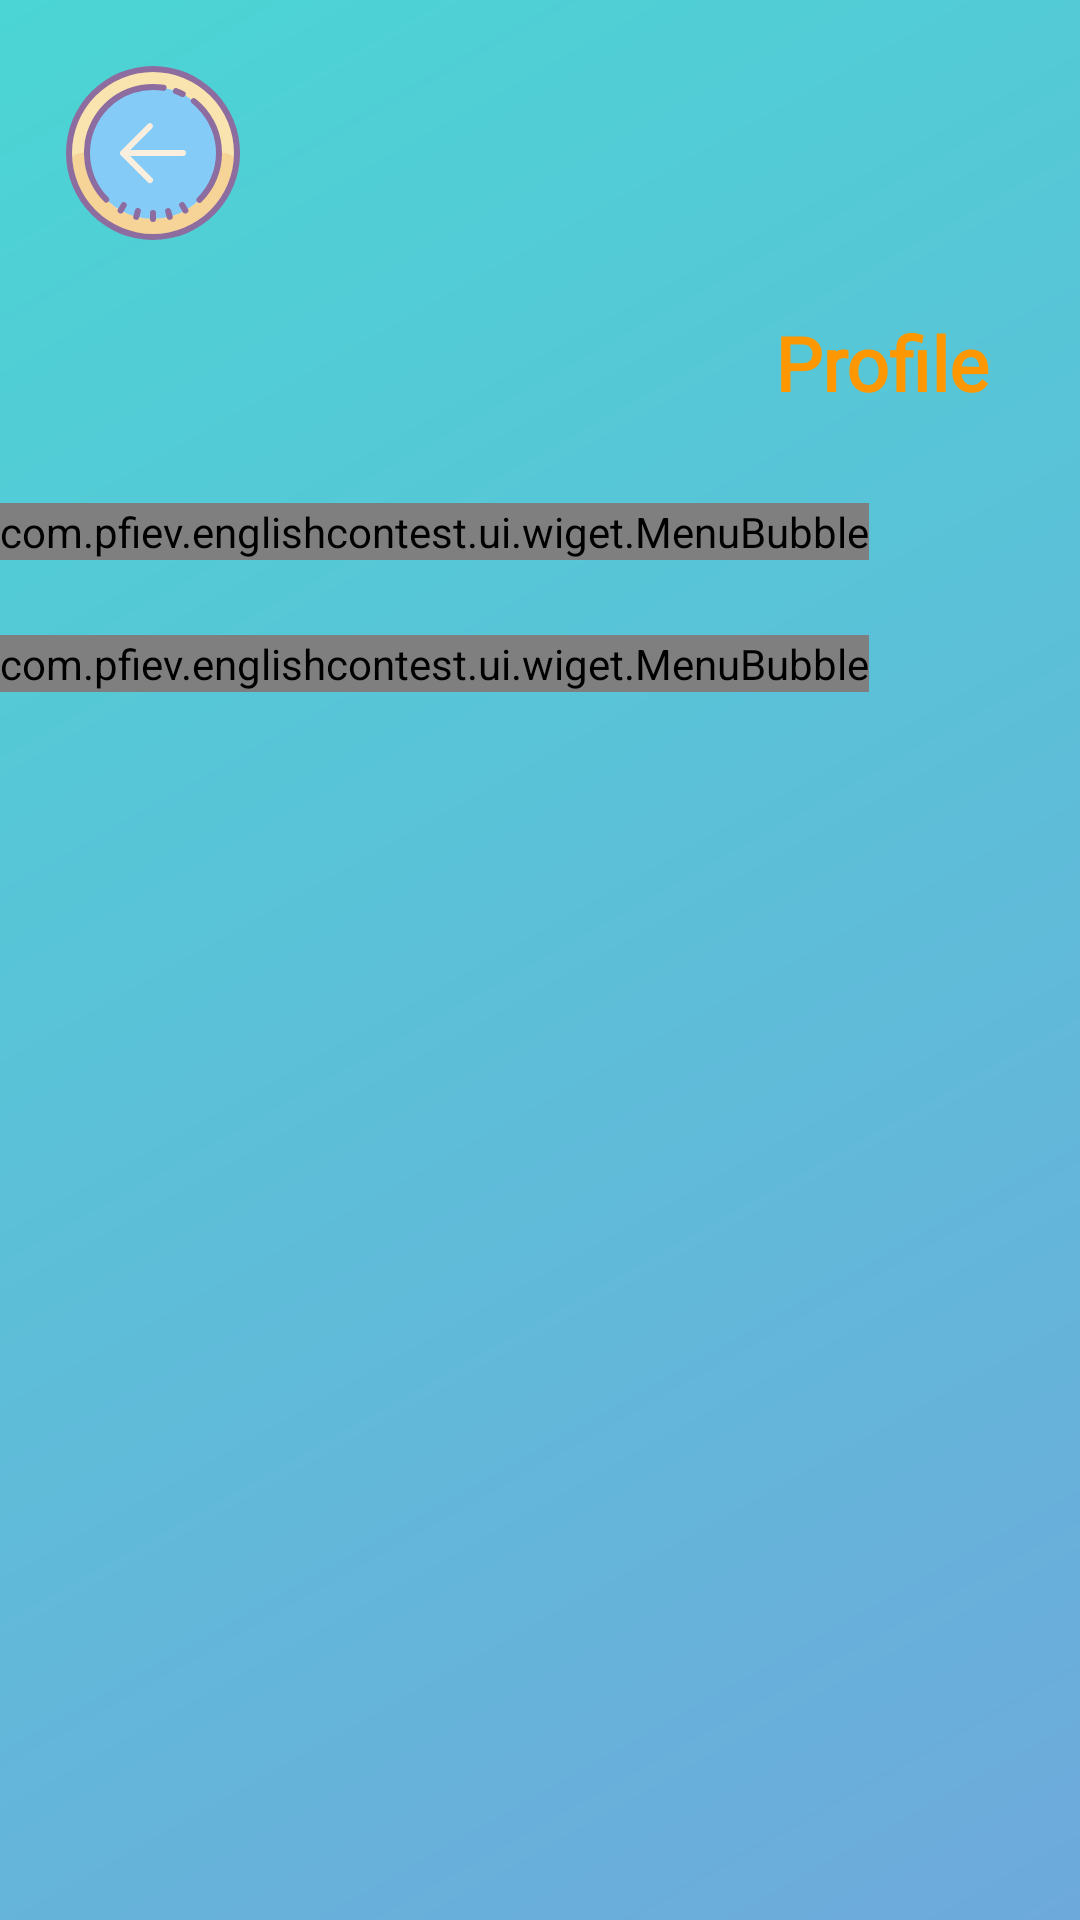

Locate icon controls on the screen. Image size 1080×1920, boxes as bbox(x1, y1, x2, y2).
Back to main: bbox(66, 66, 240, 240)
